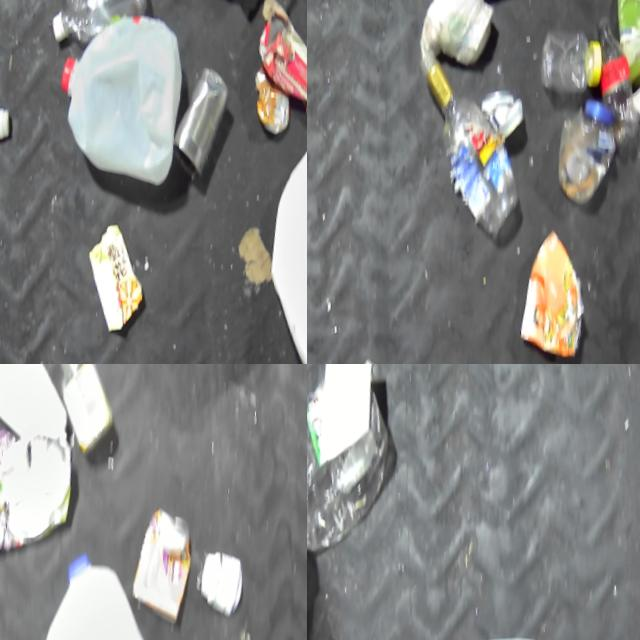can: (126, 493, 209, 640), (167, 67, 244, 206), (479, 90, 532, 155)
milk_jug: (48, 8, 204, 216), (22, 546, 186, 640), (251, 108, 307, 364)
plastic_bottle: (413, 48, 539, 261), (307, 368, 406, 559), (588, 16, 640, 163), (43, 0, 160, 62)
